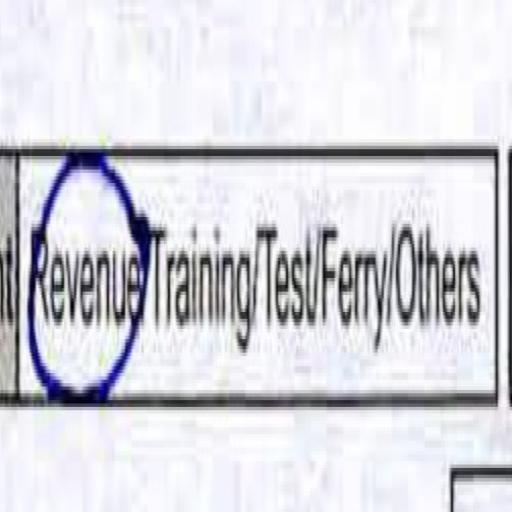check: (22, 105, 151, 455)
